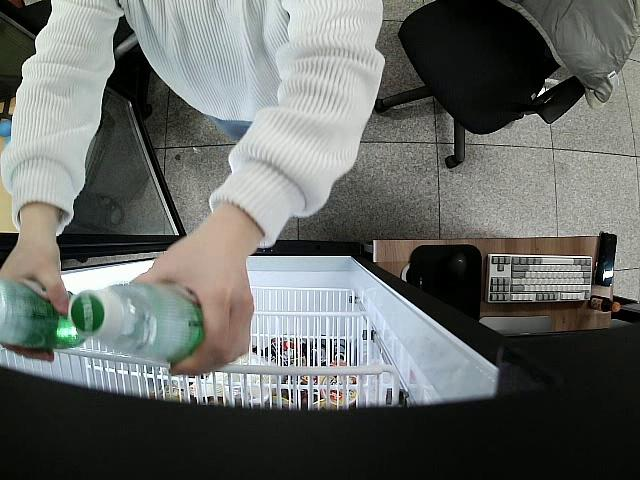00_hand: (130, 232, 257, 378), (0, 243, 68, 362)
18_trevi: (72, 277, 202, 366), (0, 274, 89, 349)
